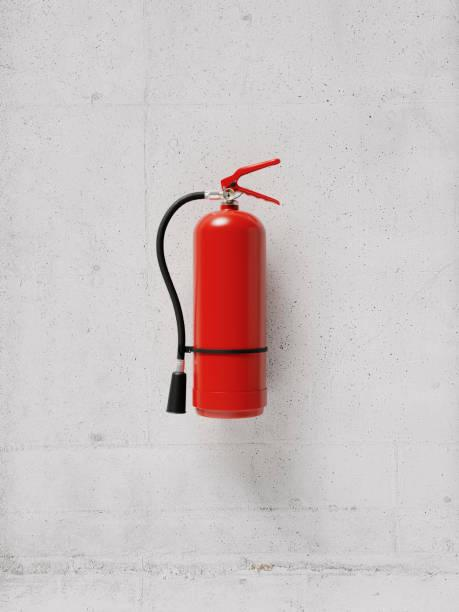wall-mounted: (121, 127, 328, 452)
